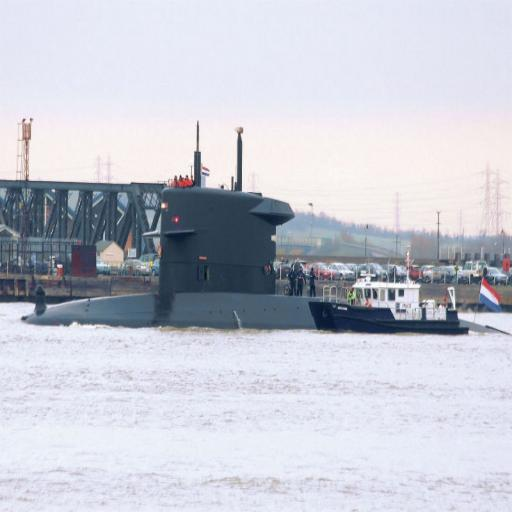submarine: (34, 118, 468, 337)
